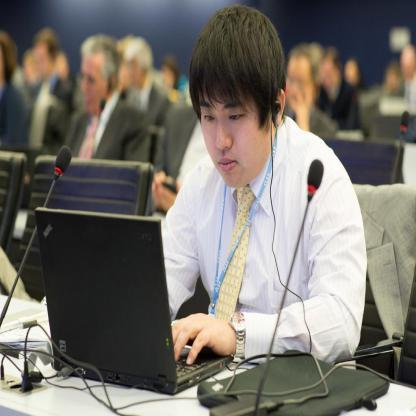board: (36, 207, 234, 397)
